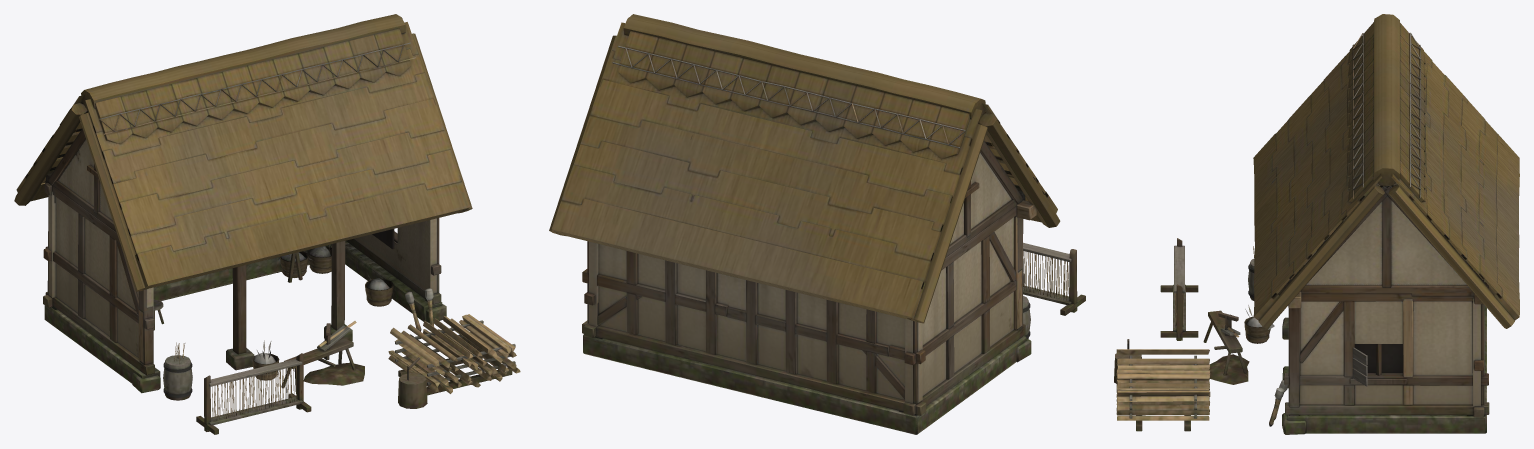
The model's file is fletcher.glb.
3 renders of one model, left to right at view 1: azimuth 30°, elevation 25°; view 2: azimuth 150°, elevation 25°; view 3: azimuth 270°, elevation 25°, orthographic. The views are drawn at different scales.
Parts seen in each view (by area): view 1: fletcher_LOD0; view 2: fletcher_LOD0; view 3: fletcher_LOD0.
Part boxes in pixels (box(x1,y1,x2,y2)): fletcher_LOD0: box(14, 14, 520, 434); fletcher_LOD0: box(549, 14, 1085, 434); fletcher_LOD0: box(1114, 14, 1519, 434).
Size of what is drawn, in the model's own units: 7.29 by 5.59 by 7.54.
Materials: 1 (1 with a texture image).
